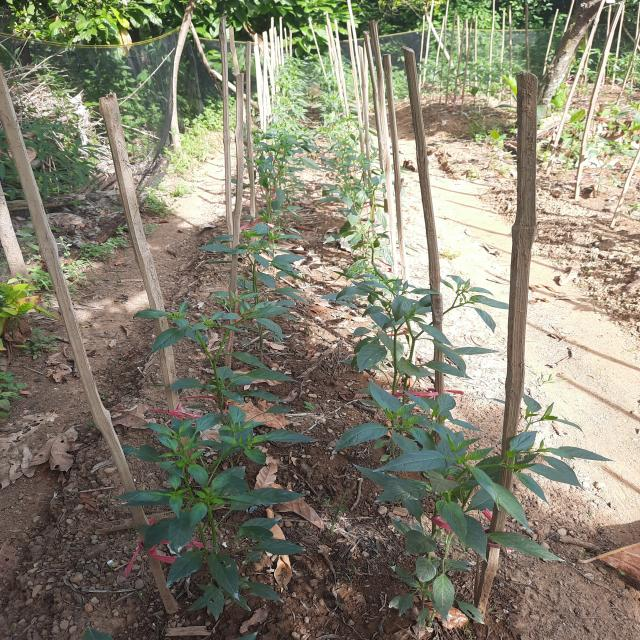sehat: (324, 418, 394, 456), (376, 445, 451, 479), (224, 484, 298, 508)
